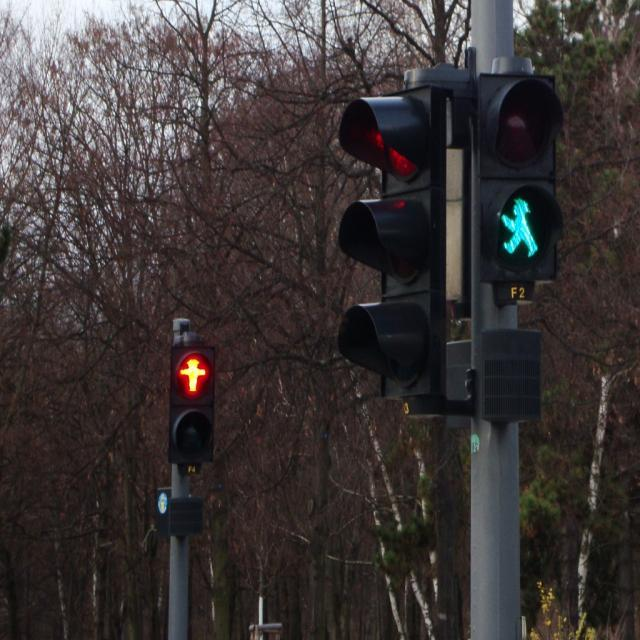traffic light: (339, 88, 446, 396), (481, 70, 562, 281), (171, 348, 216, 465)
